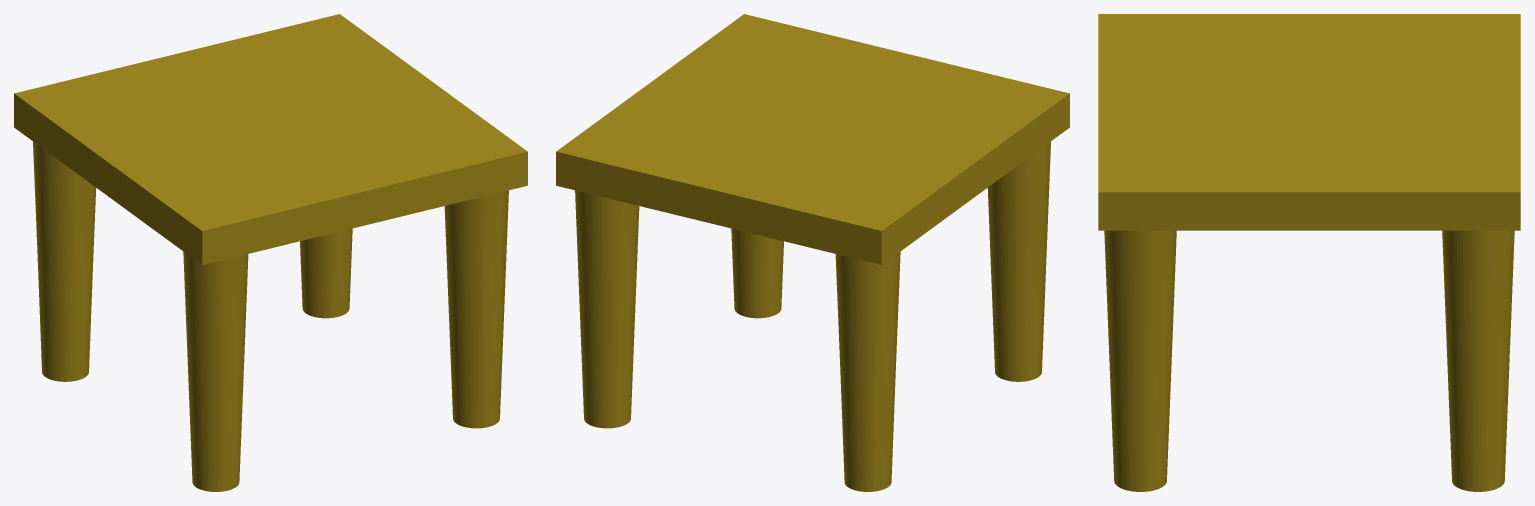
The model's file is Small_Table_Color.fbx.
3 renders of one model, left to right at view 1: azimuth 30°, elevation 25°; view 2: azimuth 150°, elevation 25°; view 3: azimuth 270°, elevation 25°, orthographic. The views are drawn at different scales.
Visible parts, largest first — view 1: Object; view 2: Object; view 3: Object.
Part boxes in pixels (x1,y1,x2,y2): Object: (14, 14, 527, 491); Object: (556, 14, 1069, 491); Object: (1098, 14, 1520, 491).
Size of the model in its own units: 100 by 80 by 100.
